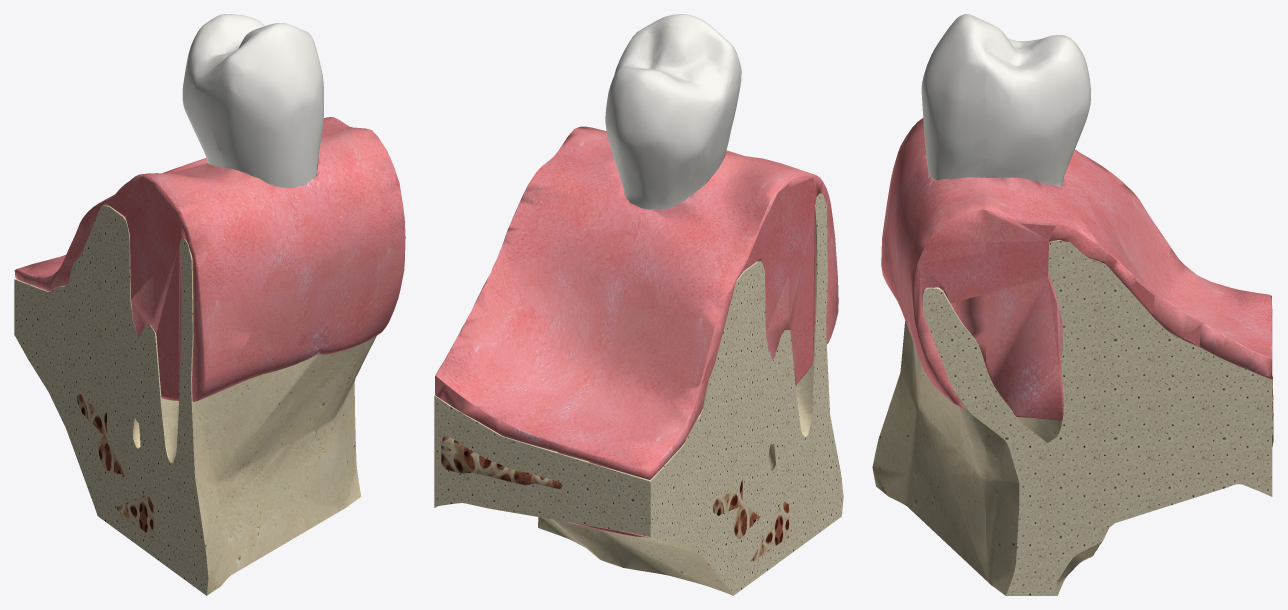
The picture shows the model from 3 angles, left to right: view 1: azimuth 30°, elevation 25°; view 2: azimuth 150°, elevation 25°; view 3: azimuth 270°, elevation 25°; orthographic projection. The views are drawn at different scales.
Visible parts, largest first — view 1: gingiva_b, kompakta_b, kompakta_a, schmelz_b, gingiva_a, schmelz_a, spongiosa_a; view 2: gingiva_a, kompakta_a, schmelz_a, kompakta_b, gingiva_b, spongiosa_a, schmelz_b; view 3: kompakta_a, gingiva_a, kompakta_b, gingiva_b, schmelz_a, schmelz_b.
Boxes of the visible parts, x1,y1,x2,y2 form: gingiva_b: (153,129,405,401); kompakta_b: (153,238,376,595); kompakta_a: (14,205,361,556); schmelz_b: (210,23,323,188); gingiva_a: (14,117,369,336); schmelz_a: (182,14,264,167); spongiosa_a: (77,394,153,537); gingiva_a: (435,130,788,537); kompakta_a: (434,261,788,595); schmelz_a: (605,26,732,209); kompakta_b: (789,193,843,554); gingiva_b: (573,126,838,385); spongiosa_a: (441,436,788,561); schmelz_b: (636,14,741,167); kompakta_a: (986,240,1272,595); gingiva_a: (986,149,1272,420); kompakta_b: (872,287,985,579); gingiva_b: (881,118,985,408); schmelz_a: (986,21,1090,186); schmelz_b: (921,14,985,180).
Bounding box in the file's own units: 0.0143 × 0.032 × 0.0221.
21 materials, 8 textured.
